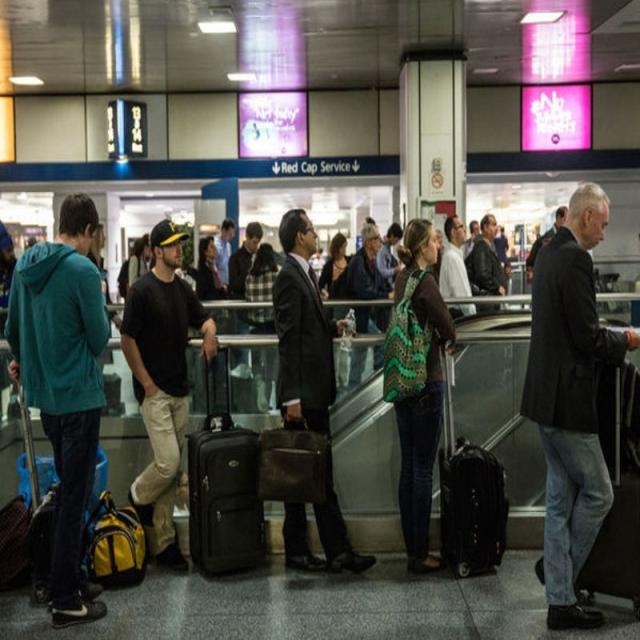body: (517, 180, 640, 632), (2, 188, 114, 634), (268, 202, 378, 581), (117, 216, 219, 578), (379, 216, 459, 582), (342, 218, 397, 396), (1, 223, 110, 295), (244, 241, 282, 413), (227, 220, 264, 364), (438, 213, 478, 321), (471, 212, 509, 317), (526, 205, 570, 270), (317, 231, 353, 301), (194, 235, 230, 303), (374, 220, 406, 290), (213, 218, 236, 287), (127, 231, 153, 288), (492, 225, 510, 276), (306, 240, 332, 270), (464, 219, 482, 259), (432, 226, 443, 283), (251, 120, 263, 143), (531, 222, 542, 244), (360, 215, 377, 226)
